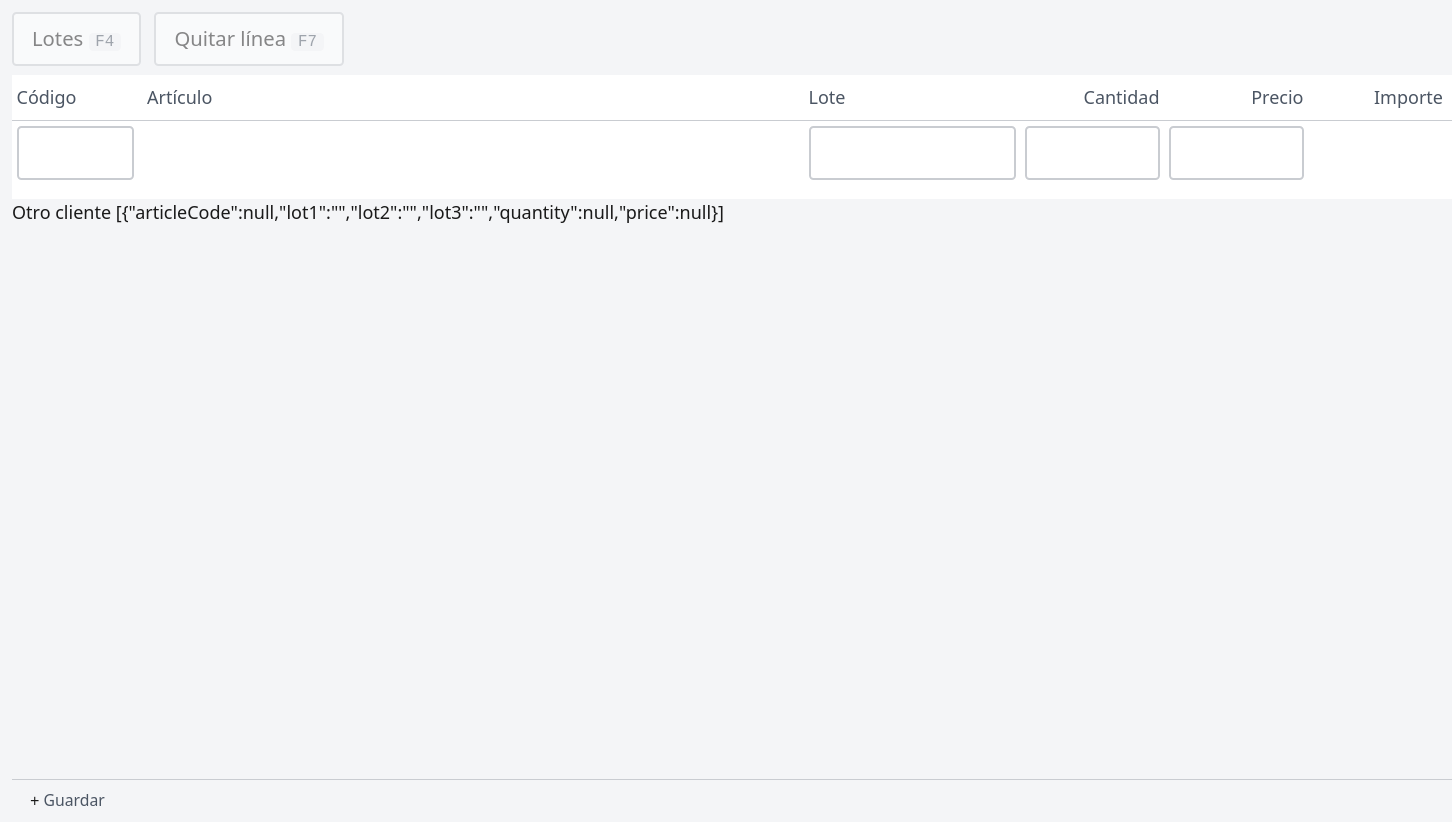
LinesGrid › the last price is proposed when the price is empty
Click the 1st field named "Código" at (75, 152), box [16,126,134,180]
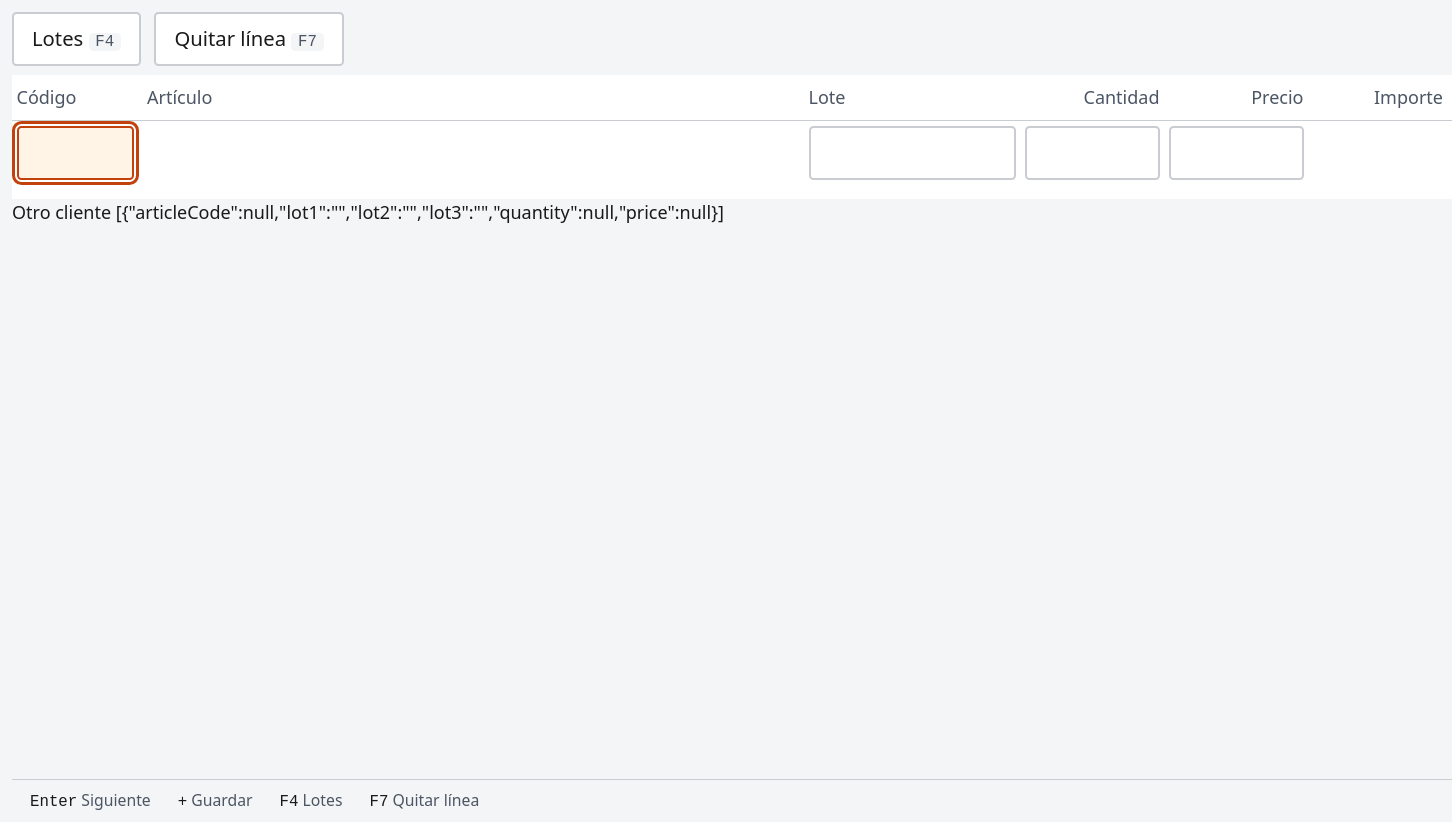
Type keys "12{Enter}"
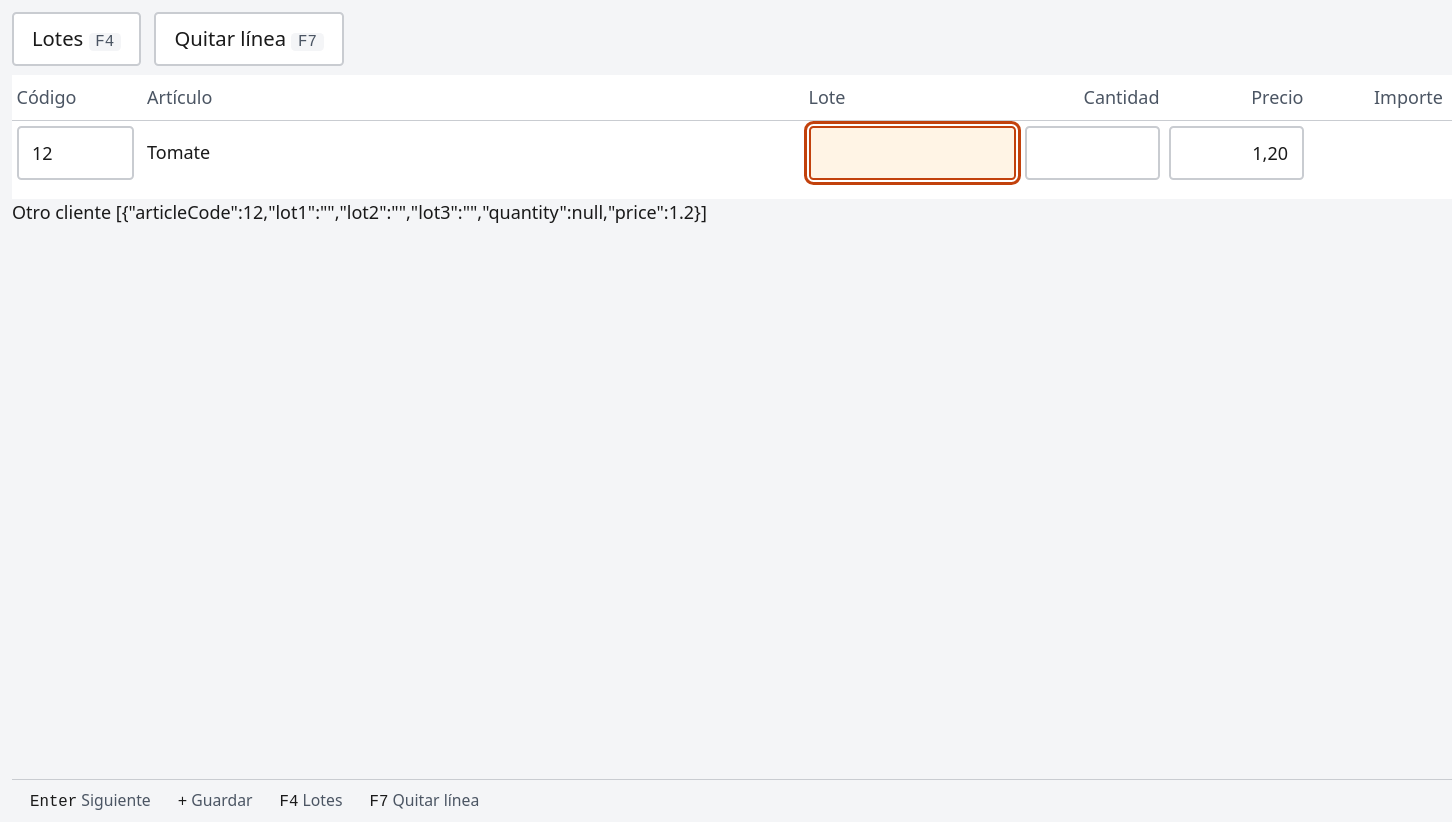
Expected: the 4th field named "Precio" holds "1,20", [1168,126,1304,180]
